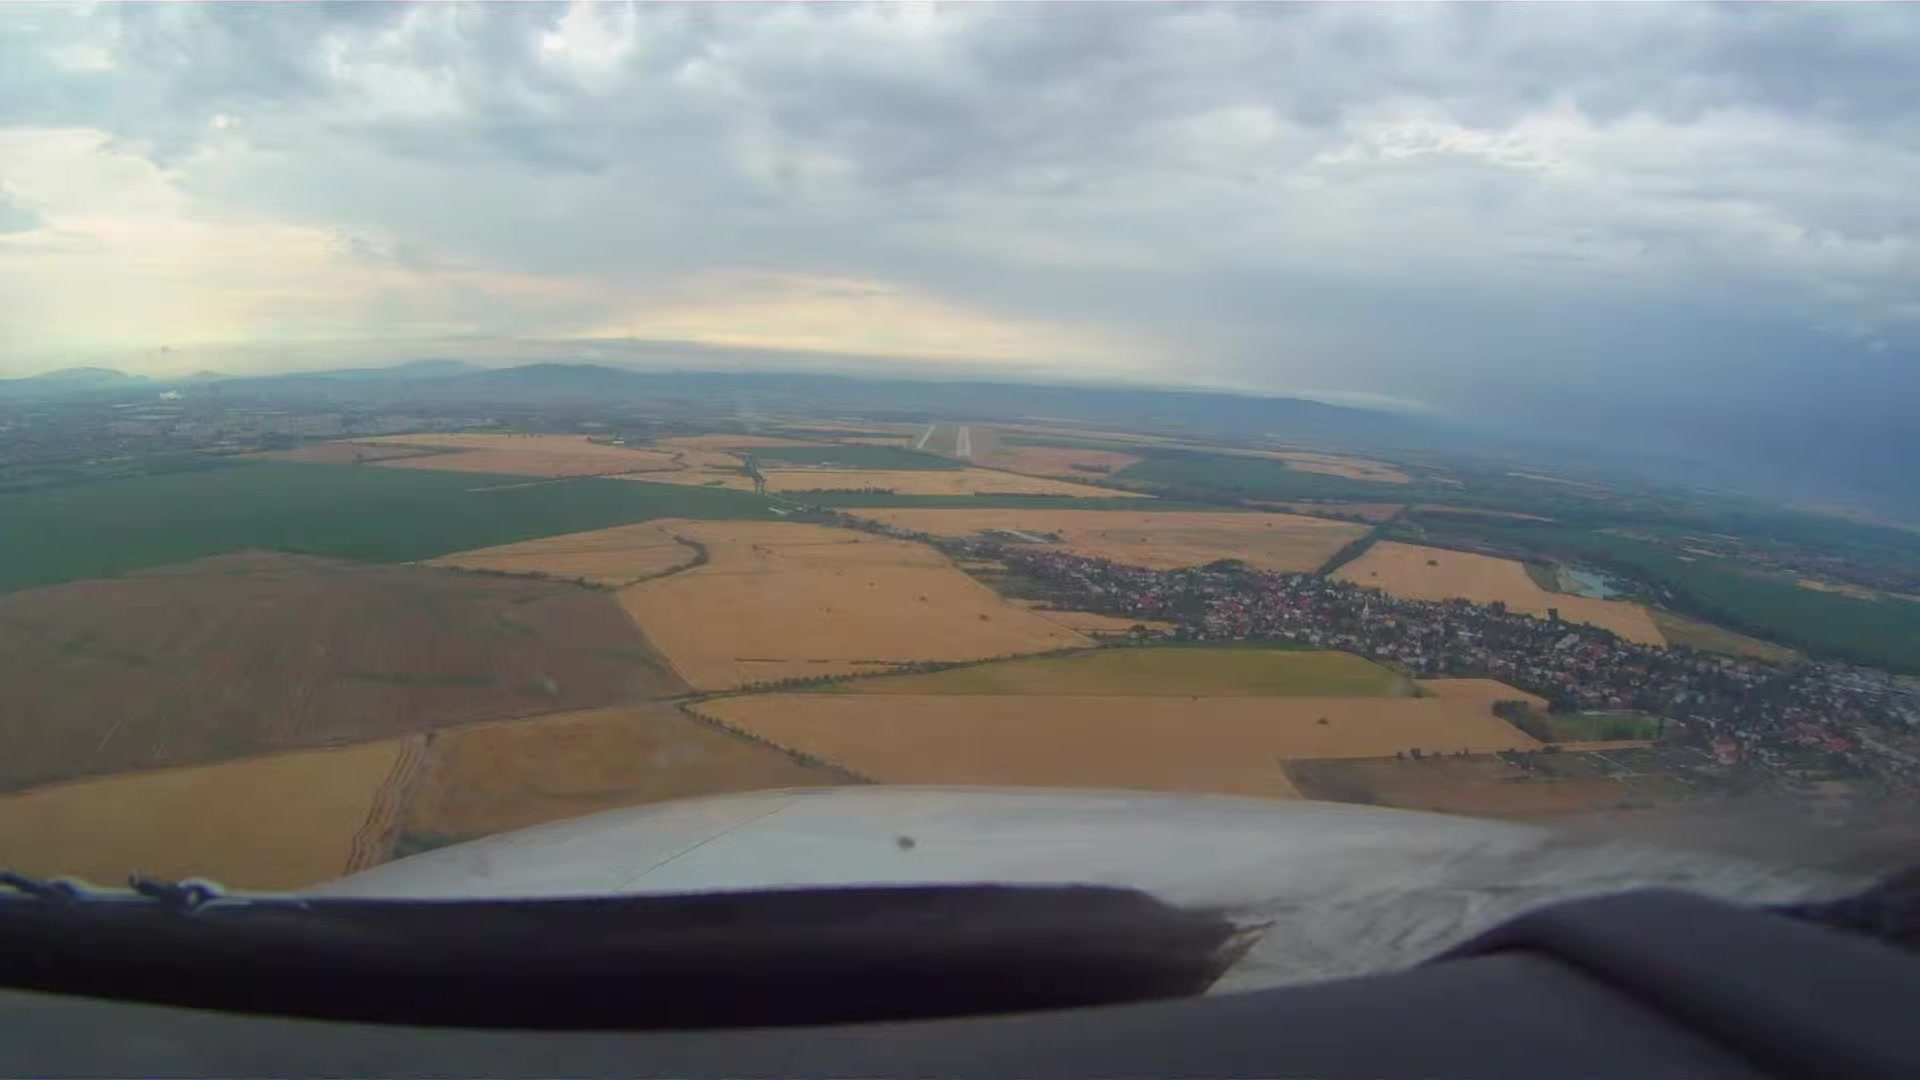runway: (953, 427, 971, 458)
